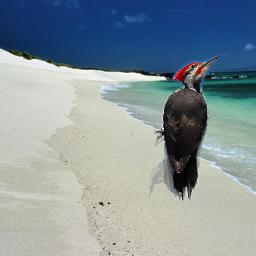Woodpecker: (149, 53, 226, 201)
